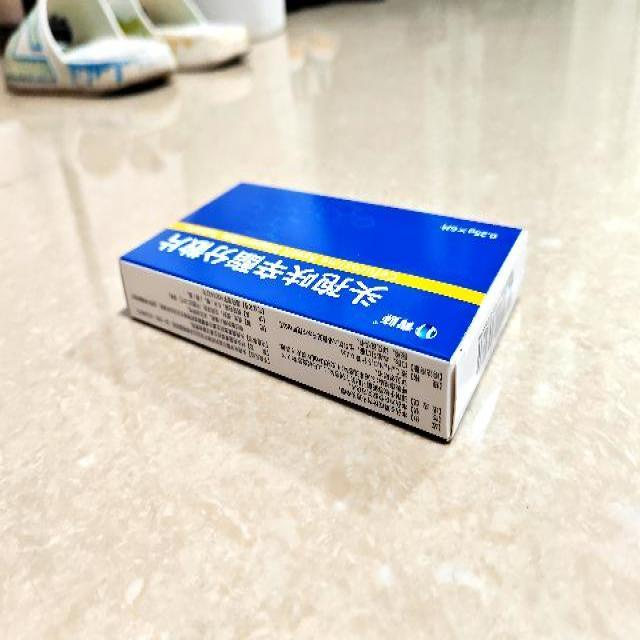box: (119, 180, 526, 444)
